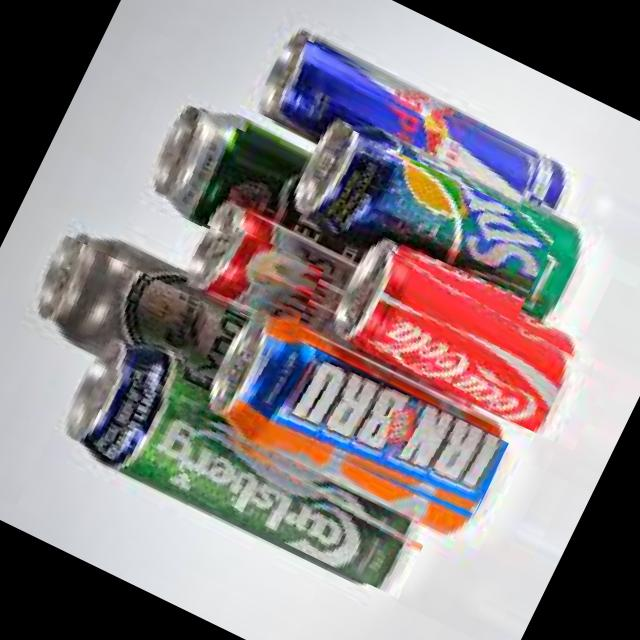Cans: (63, 359, 434, 597), (333, 242, 618, 449), (290, 122, 559, 332), (230, 326, 508, 528), (270, 38, 548, 234), (12, 228, 216, 388), (160, 206, 324, 340), (136, 99, 277, 236)
